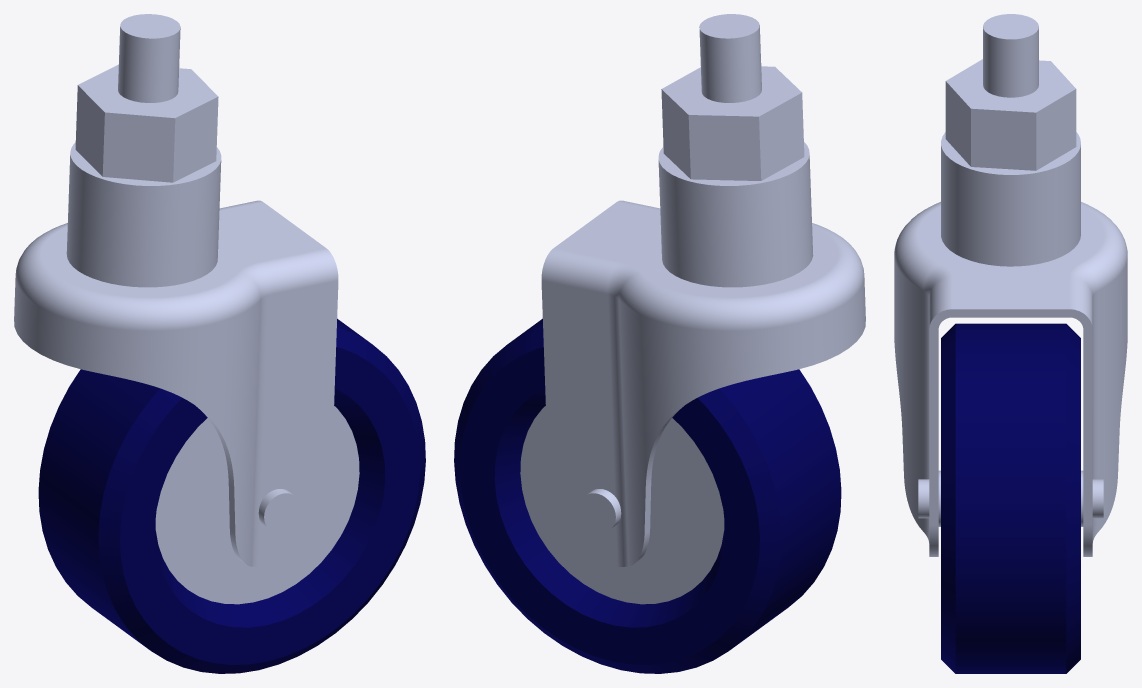
The model's file is caster_wheel.dae.
3 views of the same model, side by side, from view 1: azimuth 30°, elevation 25°; view 2: azimuth 150°, elevation 25°; view 3: azimuth 270°, elevation 25° (orthographic). The views are drawn at different scales.
Parts seen in each view (by area): view 1: _3DGeom_57, Body_2, Body_1, _3DGeom_58, Body_5; view 2: _3DGeom_57, Body_2, Body_1, _3DGeom_58, Body_4; view 3: _3DGeom_57, Body_2, Body_1, Body_4, Body_5.
Boxes of the visible parts, x1,y1,x2,y2 form: _3DGeom_57: (38, 318, 425, 673); Body_2: (14, 200, 338, 566); Body_1: (66, 14, 221, 287); _3DGeom_58: (155, 406, 359, 604); Body_5: (258, 489, 300, 532); _3DGeom_57: (454, 318, 841, 673); Body_2: (541, 200, 865, 566); Body_1: (658, 14, 813, 287); _3DGeom_58: (520, 406, 724, 604); Body_4: (579, 489, 621, 532); _3DGeom_57: (941, 323, 1080, 673); Body_2: (894, 202, 1127, 556); Body_1: (941, 14, 1080, 266); Body_4: (1092, 479, 1103, 518); Body_5: (918, 479, 929, 518).
Bounding box in the file's own units: 0.0836 × 0.05 × 0.1405.
